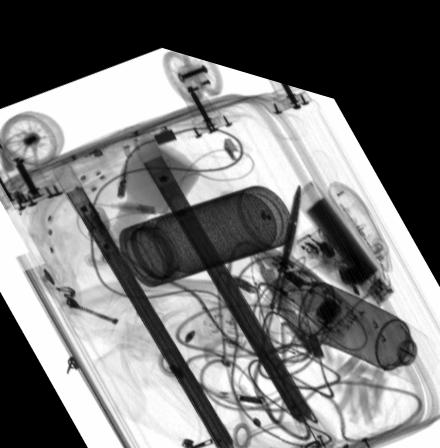Knife: (219, 175, 313, 331)
Powerbank: (291, 161, 397, 284)
Scissors: (256, 163, 303, 309)
Sprayer: (299, 261, 437, 358)
